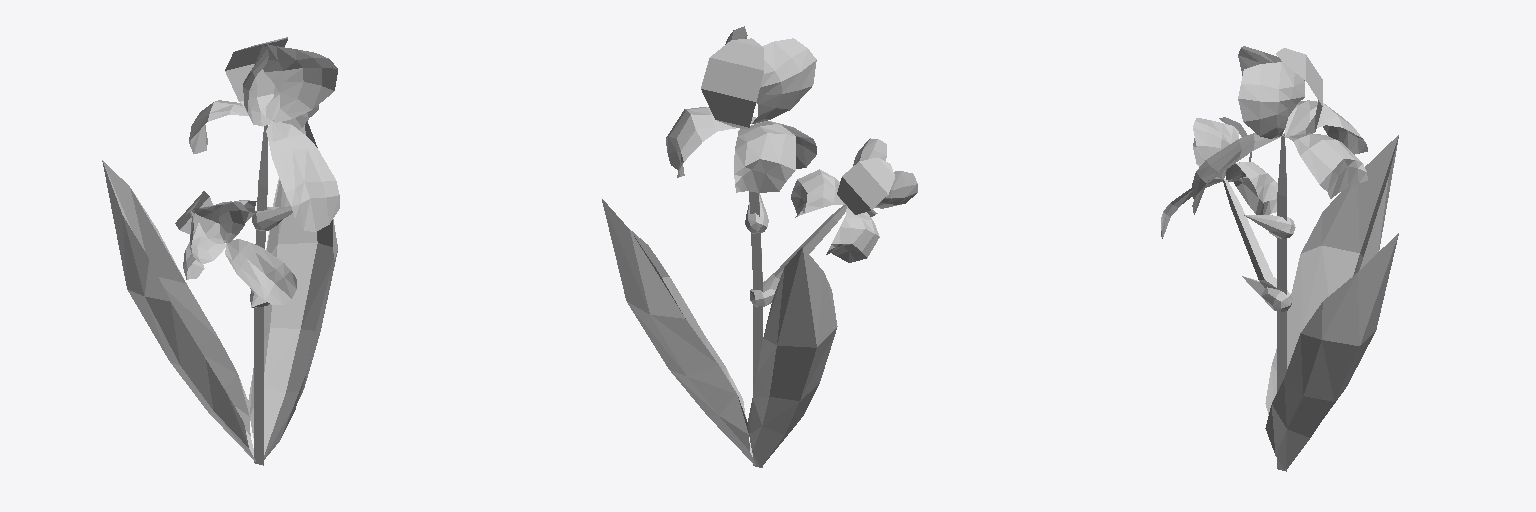
Rendered from obj_irisBla.obj.
The picture shows the model from 3 angles: view 1: azimuth 30°, elevation 25°; view 2: azimuth 150°, elevation 25°; view 3: azimuth 270°, elevation 25°; orthographic projection.
Visible parts, largest first — view 1: IrisBla_Plane.001; view 2: IrisBla_Plane.001; view 3: IrisBla_Plane.001.
Boxes of the visible parts, <box> form: IrisBla_Plane.001: <box>102,37,339,465</box>; IrisBla_Plane.001: <box>602,26,917,467</box>; IrisBla_Plane.001: <box>1161,46,1398,471</box>.
Bounding box in the file's own units: 0.3031 × 0.5709 × 0.2921.